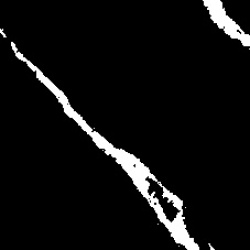crack: (2, 35, 200, 249), (202, 1, 249, 44)
